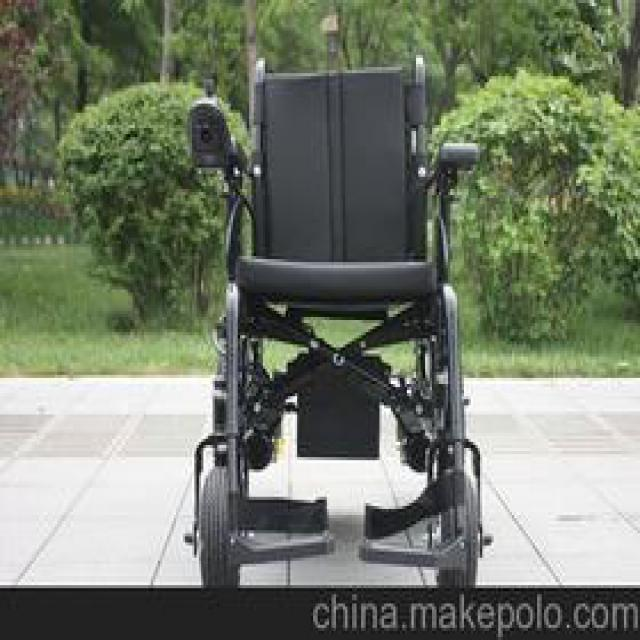wheelchair: (153, 45, 496, 582)
